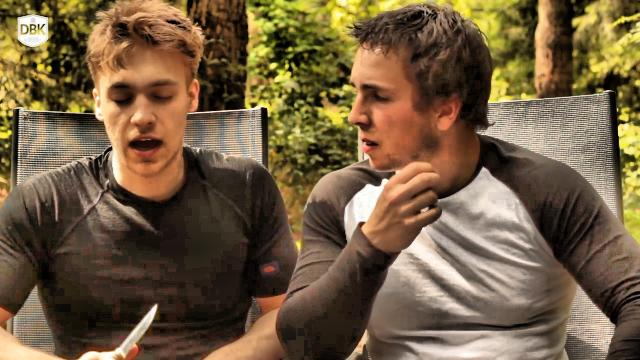knife: (84, 298, 166, 360)
